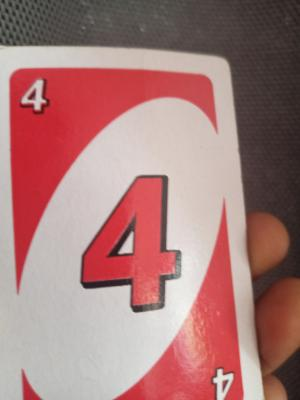num_4: (12, 74, 61, 122), (203, 362, 244, 400)
